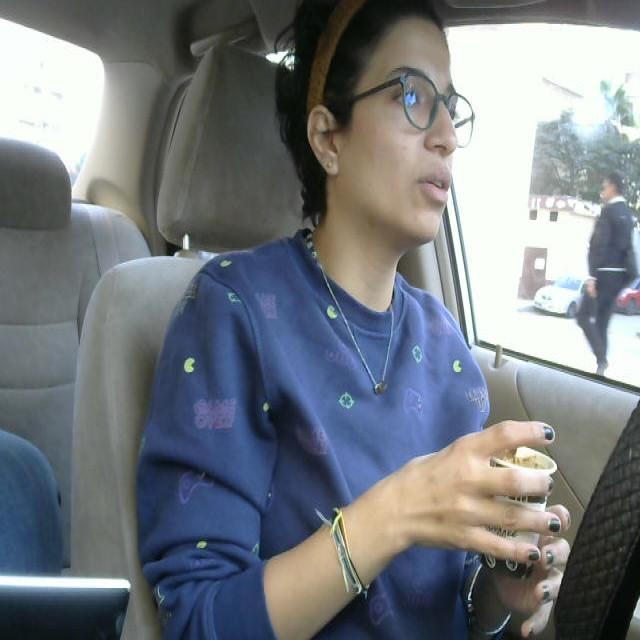drinking: (478, 432, 559, 559)
